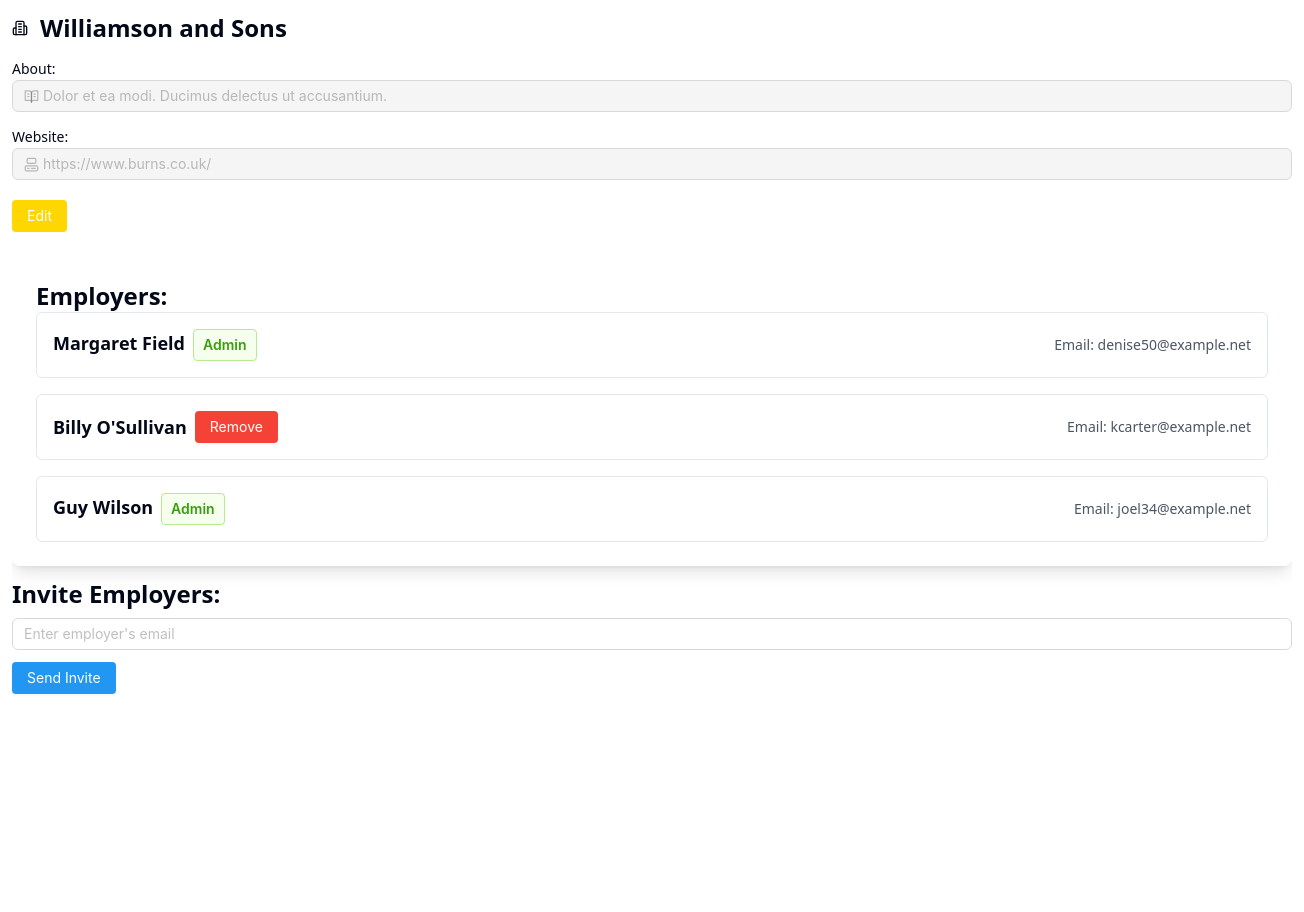
Test: CompanyProfilePage component › Update and cancel buttons work
This screenshot has width=1304, height=912.
Check: the text "Edit" is shown, box [27,209,52,223]
Click the button "Edit" at (40, 216), box [12,200,67,232]
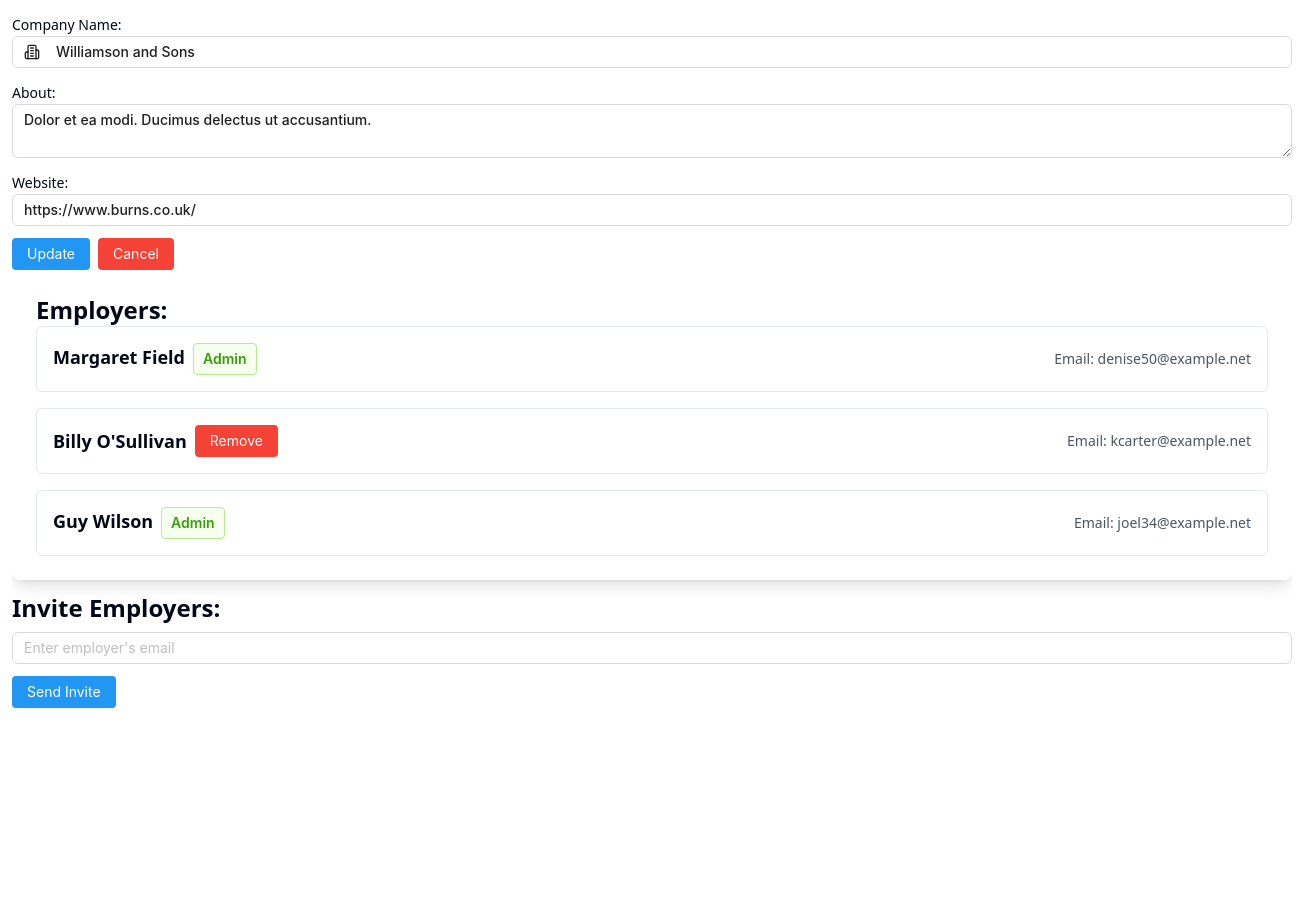
Check: the text "Update" is shown, box [27,247,75,261]
Check: the text "Cancel" is shown, box [113,247,159,261]
Replace the text in the field labelled "Company Name:" with "New Company Name" at (668, 52), box [56,41,1280,63]
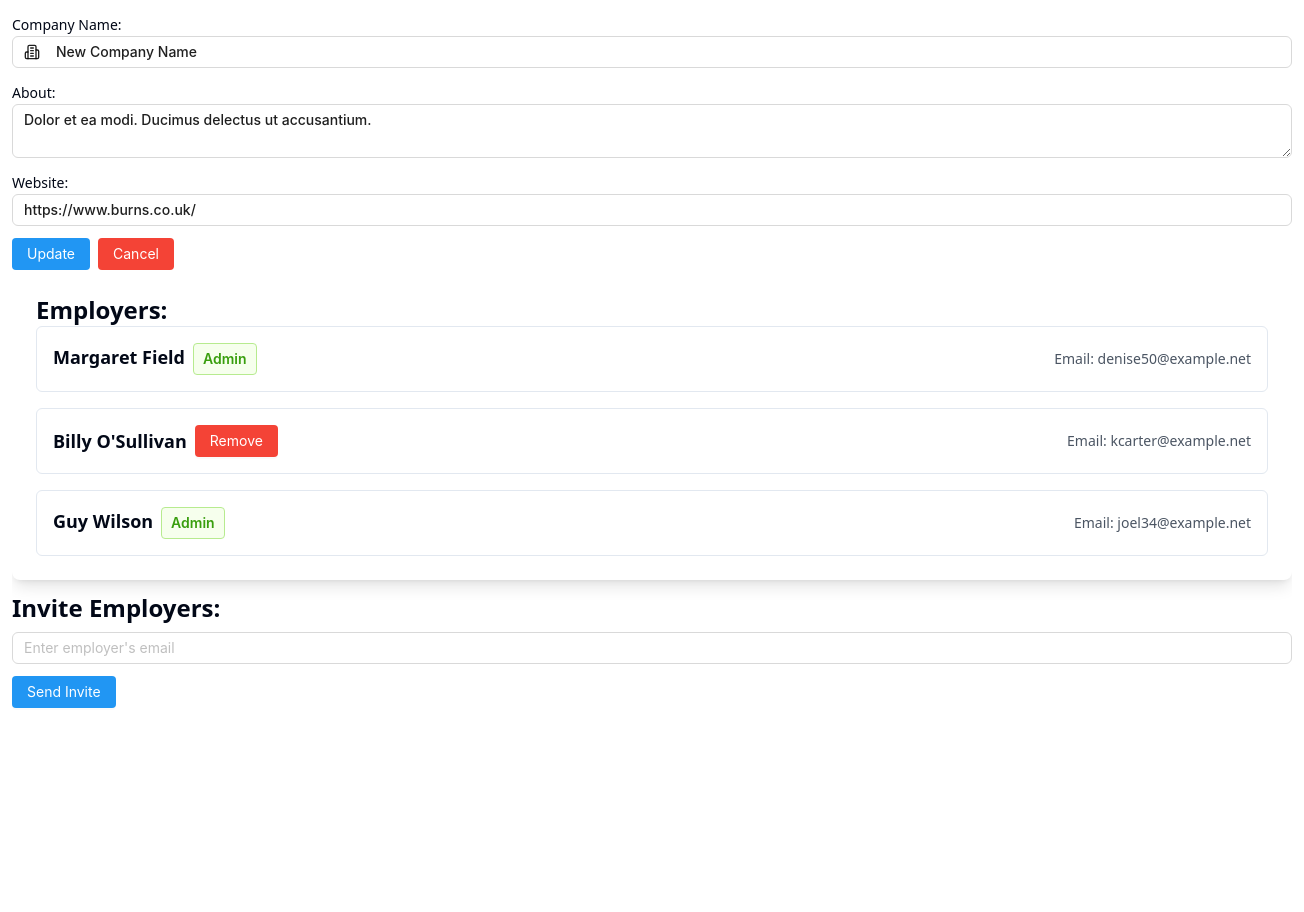
Click the button "Cancel" at (136, 254), box [98,238,174,270]
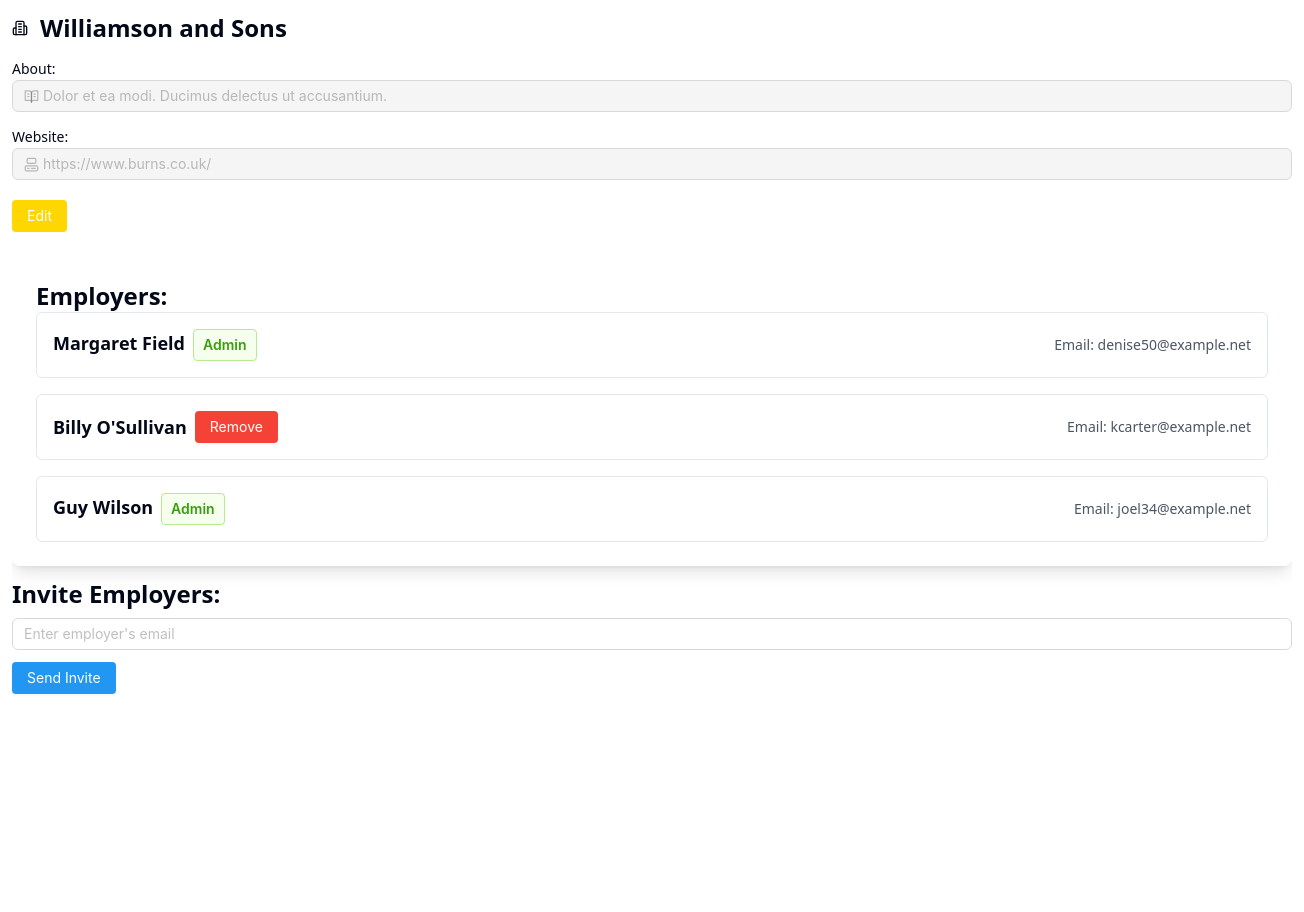
Check: the text "Edit" is shown, box [27,209,52,223]
Click the button "Edit" at (40, 216), box [12,200,67,232]
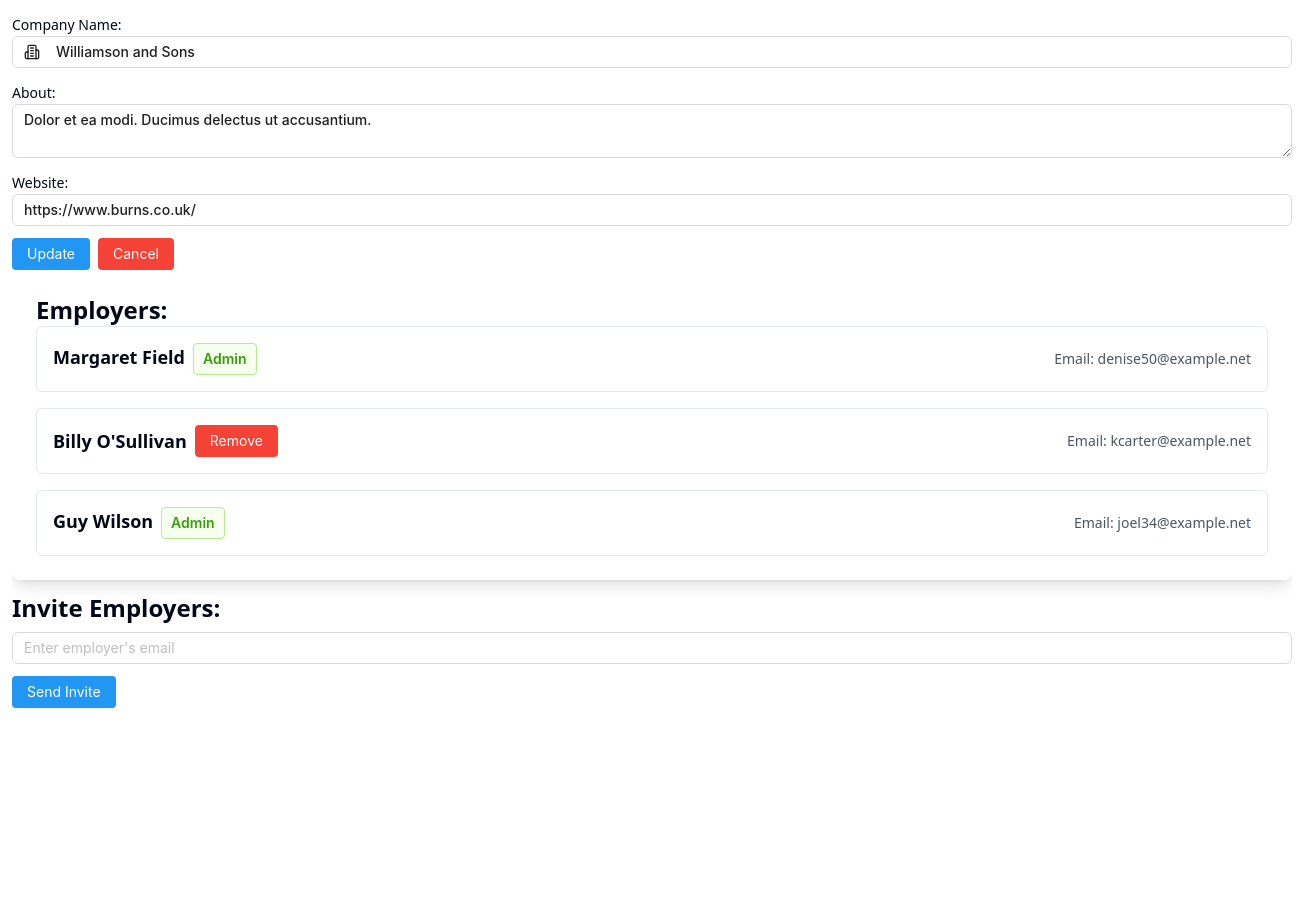
Check: the text "Update" is shown, box [27,247,75,261]
Check: the text "Cancel" is shown, box [113,247,159,261]
Replace the text in the field labelled "Company Name:" with "New Company Name" at (668, 52), box [56,41,1280,63]
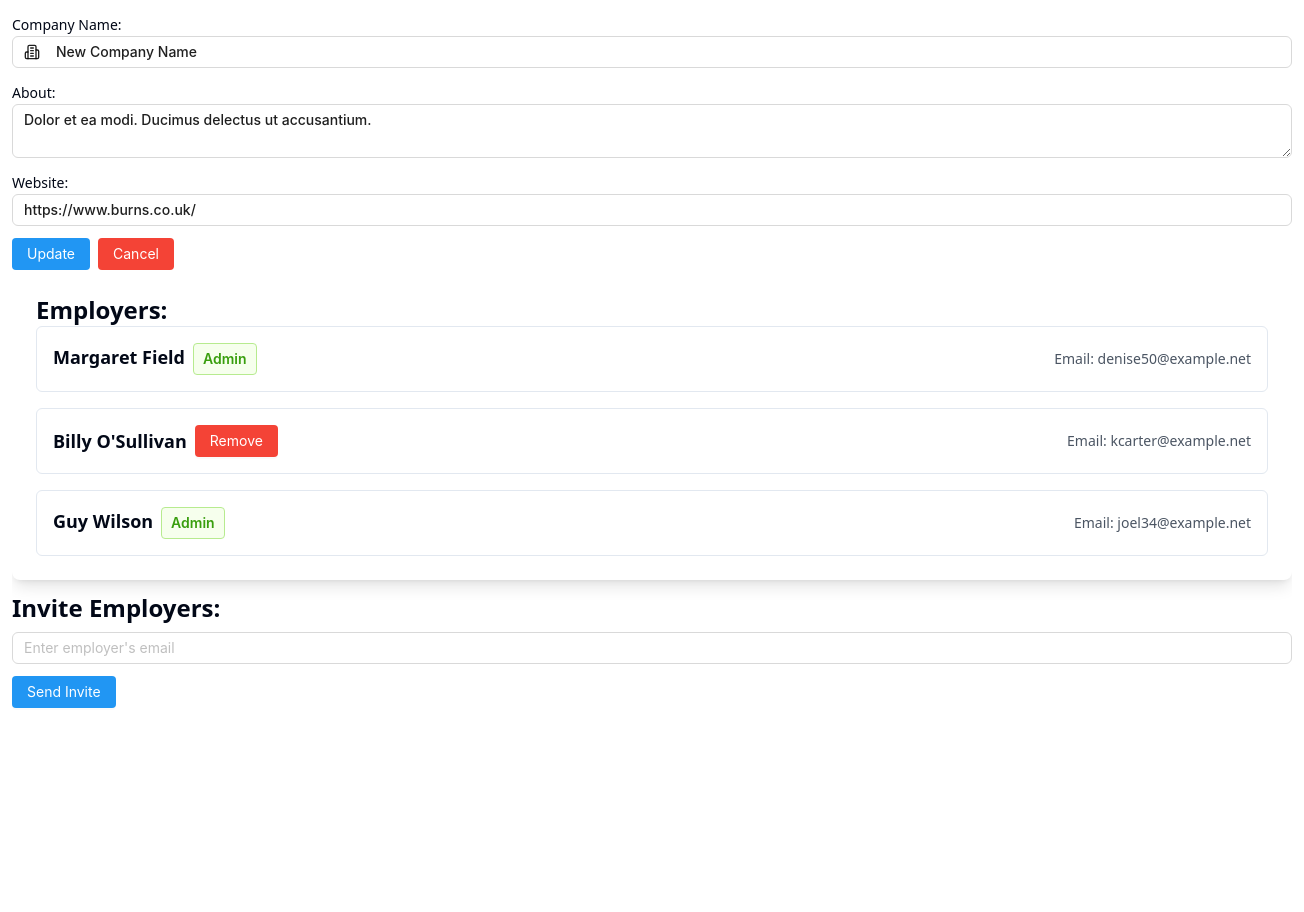
Click the button "Update" at (51, 254), box [12,238,90,270]
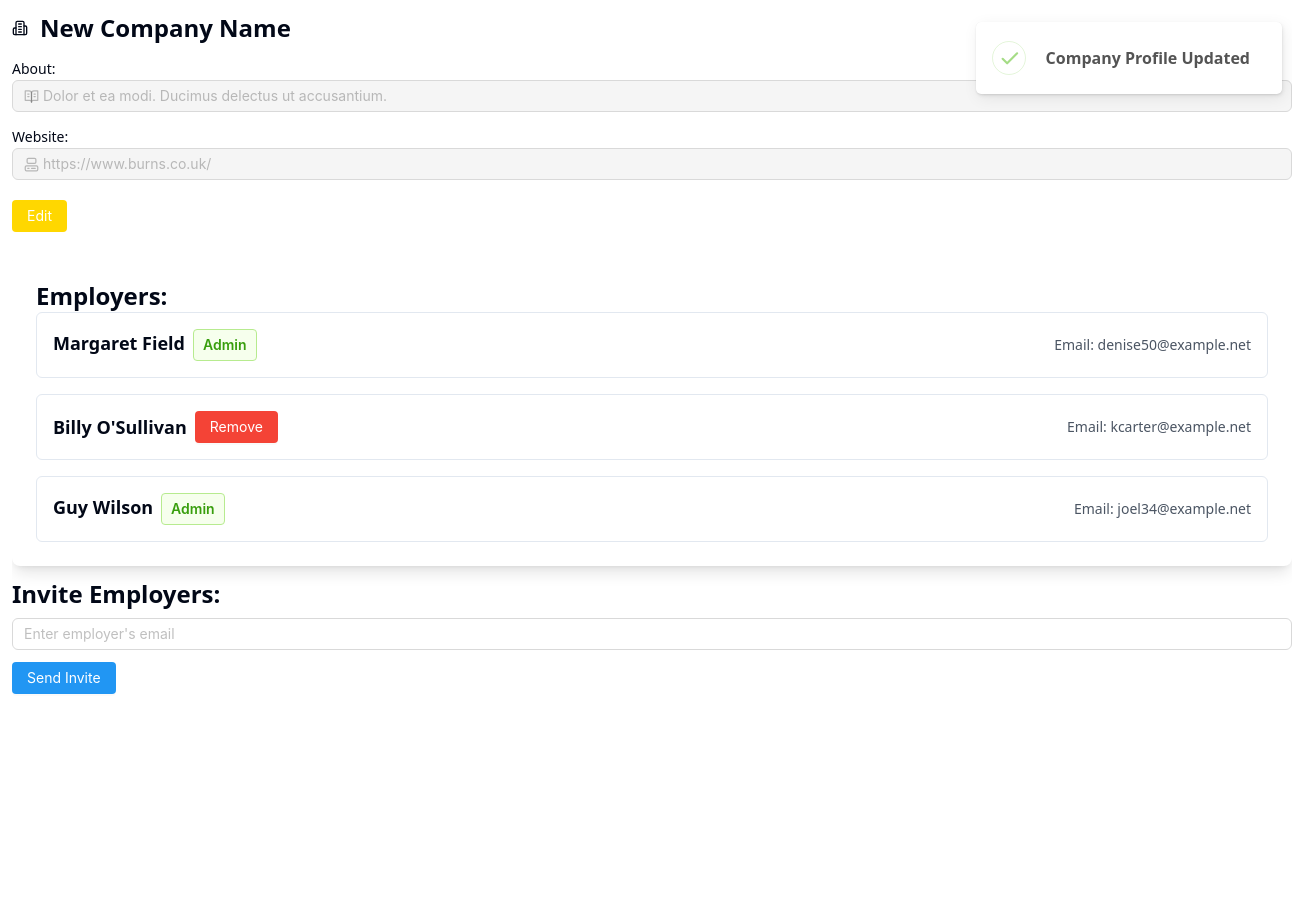
Check: the text "New Company Name" is shown, box [12,11,291,44]
